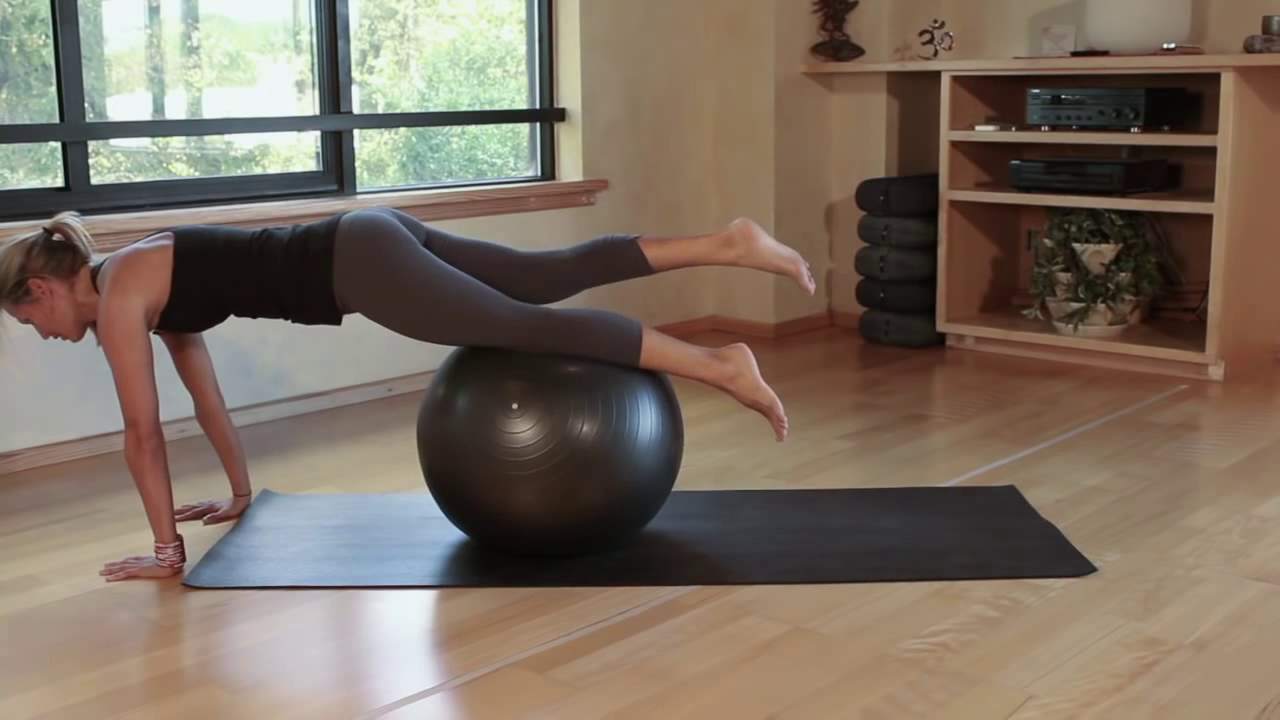yogaball: (412, 338, 694, 560)
